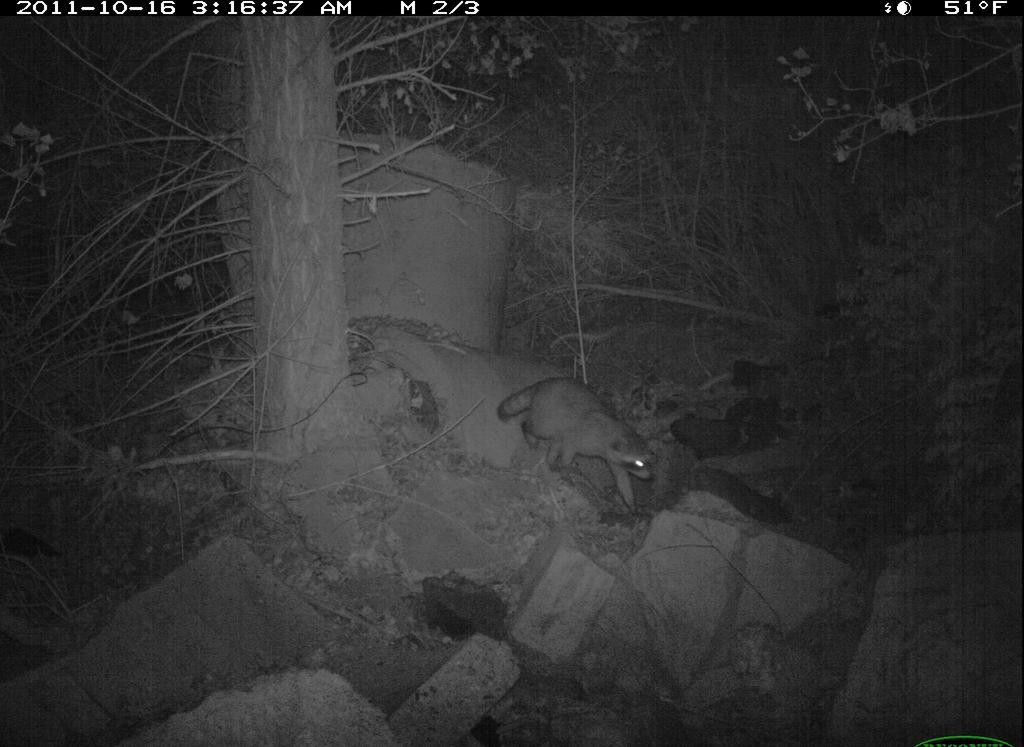raccoon: (491, 365, 674, 528)
